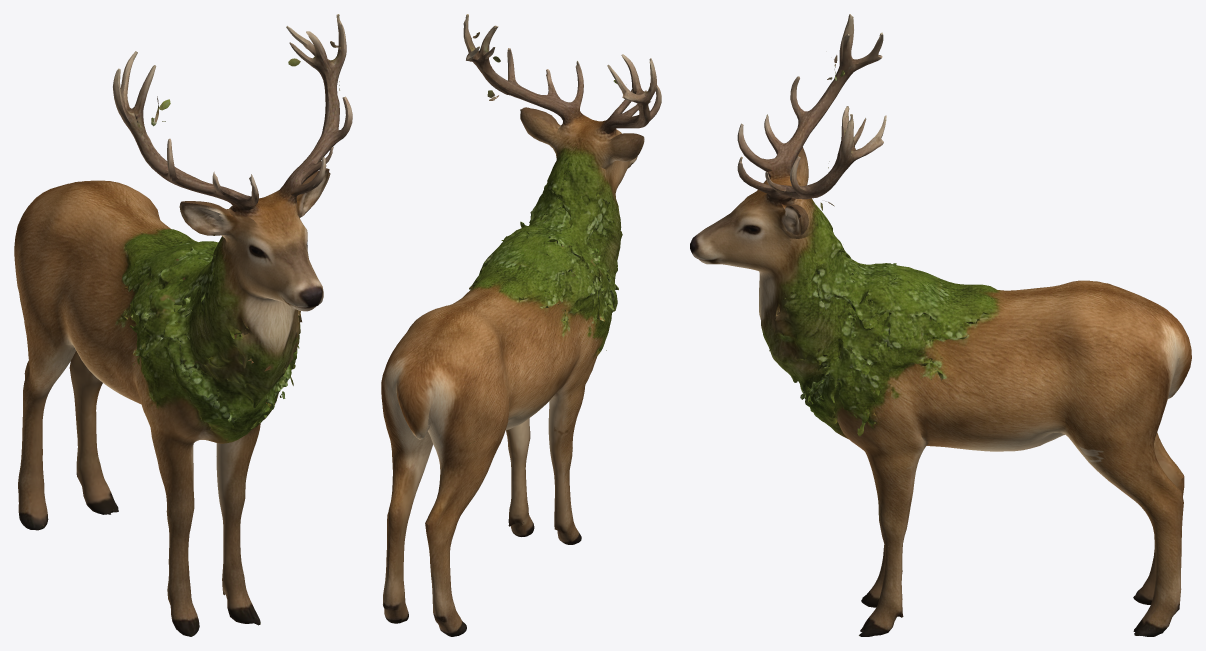
The model's file is meadowhart.glb.
The picture shows the model from 3 angles, left to right: view 1: azimuth 30°, elevation 25°; view 2: azimuth 150°, elevation 25°; view 3: azimuth 270°, elevation 25°; orthographic projection. The views are drawn at different scales.
Visible parts, largest first — view 1: Mesh_0; view 2: Mesh_0; view 3: Mesh_0.
Boxes of the visible parts, x1,y1,x2,y2 form: Mesh_0: (14,14,352,636); Mesh_0: (381,14,661,636); Mesh_0: (690,14,1191,636).
Bounding box in the file's own units: 0.7672 × 1.89 × 1.55.
1 material, 1 textured.
